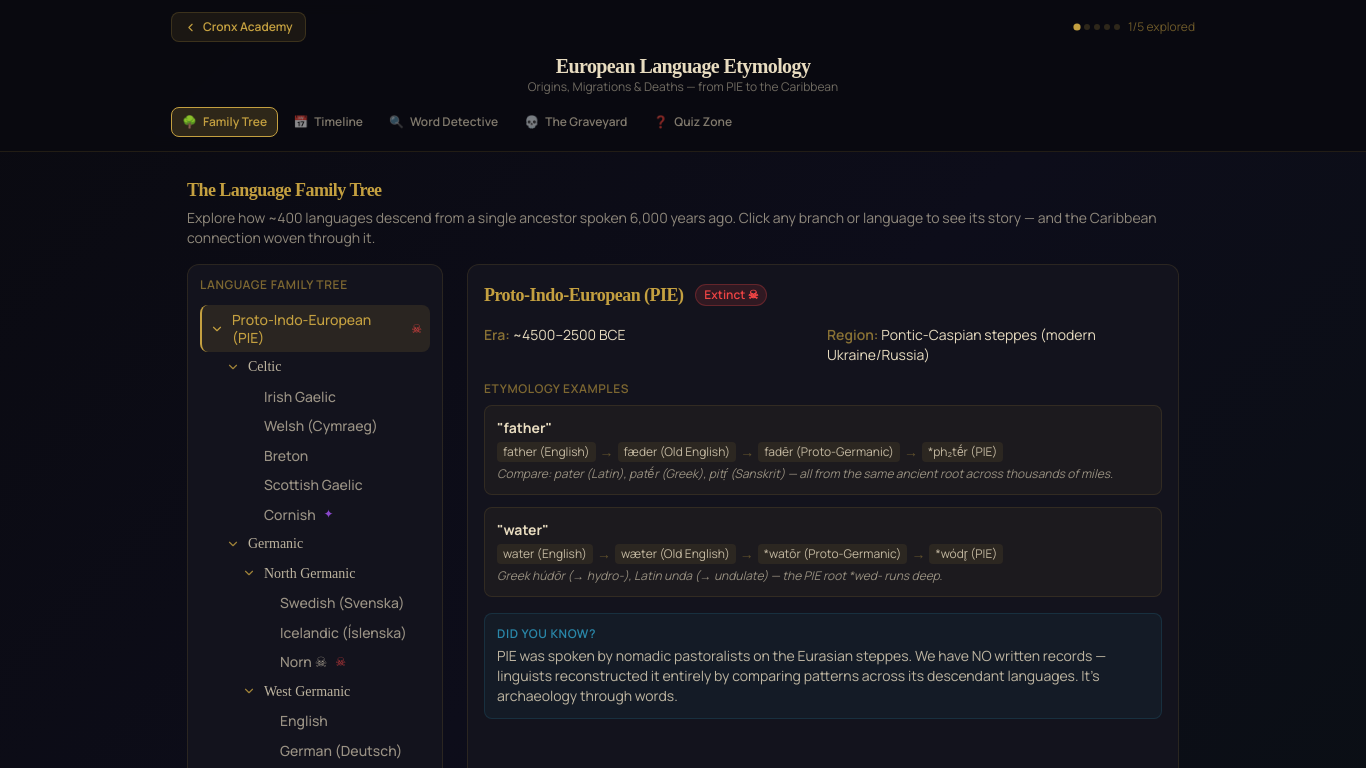
Test case: EtymologyInteractive › Section 4: Dead Languages Graveyard › navigates to Graveyard tab
Click the text "The Graveyard" at (586, 122), box [545,114,627,130]
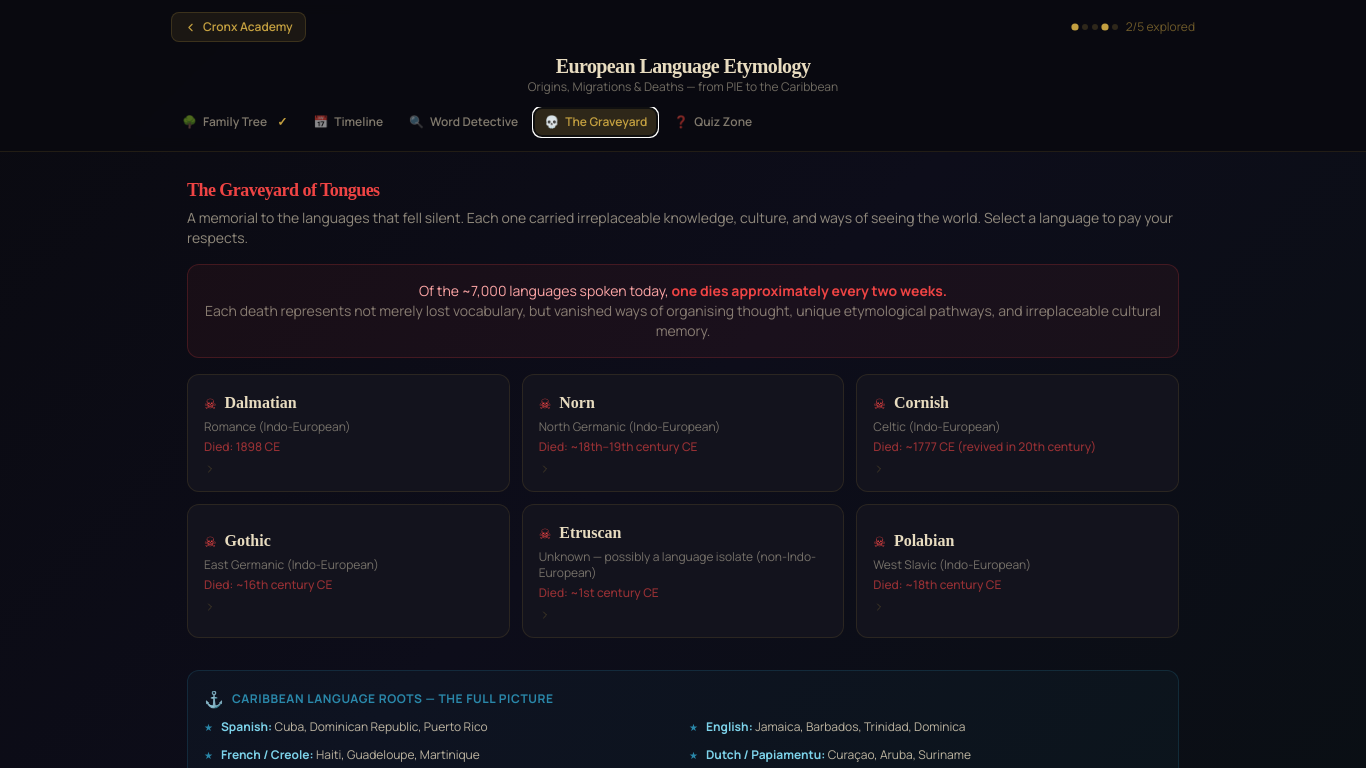
Expected: the heading "The Graveyard of Tongues" is shown, [187,180,380,200]
